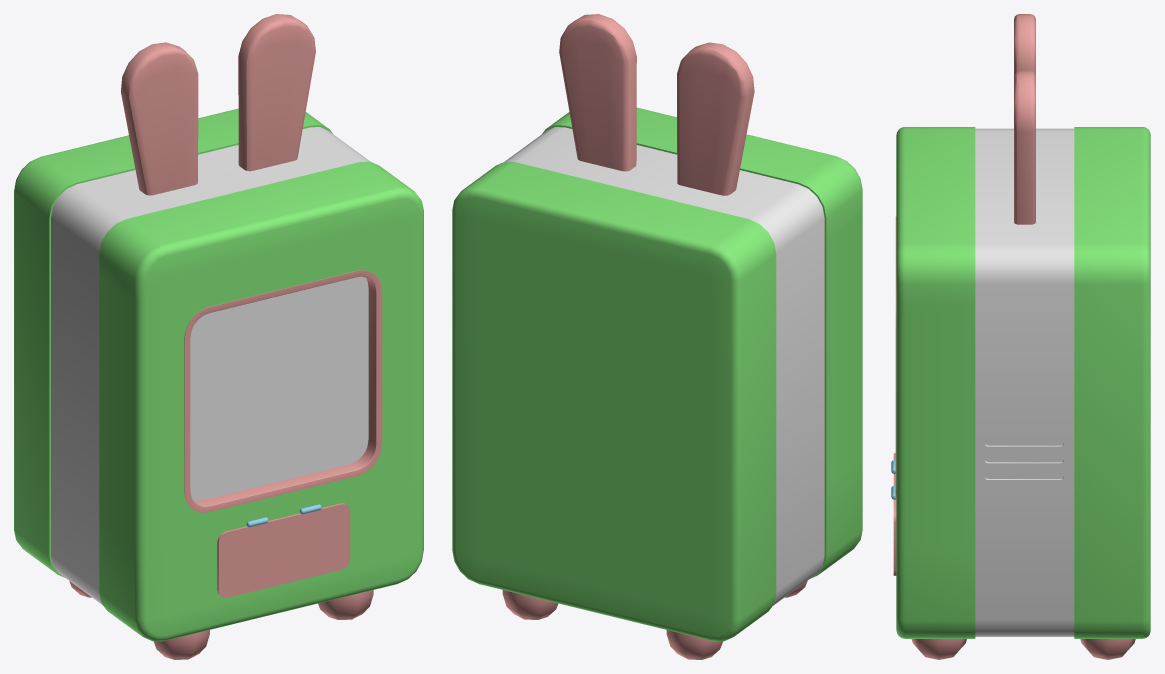
The model's file is vending_machine.glb.
3 views of the same model, side by side, from view 1: azimuth 30°, elevation 25°; view 2: azimuth 150°, elevation 25°; view 3: azimuth 270°, elevation 25° (orthographic).
Parts seen in each view (by area): view 1: Vneding_Machine_Front, Vending_Machine_Screen, Vending_Machine, Vending_Machine_Ears, Vending_Machine_Back, Vending_Machine_Pickup_Port, Vending_Machine_Screen_Frame, Vending_Machine_Feet; view 2: Vending_Machine_Back, Vending_Machine, Vneding_Machine_Front, Vending_Machine_Ears, Vending_Machine_Feet; view 3: Vending_Machine, Vneding_Machine_Front, Vending_Machine_Back, Vending_Machine_Ears, Vending_Machine_Feet, Vending_Machine_Screen_Frame.
Boxes of the visible parts, bbox=[...] form: Vneding_Machine_Front: bbox=[99, 161, 423, 641]; Vending_Machine_Screen: bbox=[190, 276, 368, 500]; Vending_Machine: bbox=[51, 127, 370, 604]; Vending_Machine_Ears: bbox=[120, 14, 315, 195]; Vending_Machine_Back: bbox=[14, 108, 332, 577]; Vending_Machine_Pickup_Port: bbox=[217, 503, 350, 597]; Vending_Machine_Screen_Frame: bbox=[184, 270, 382, 512]; Vending_Machine_Feet: bbox=[69, 581, 373, 659]; Vending_Machine_Back: bbox=[452, 161, 776, 641]; Vending_Machine: bbox=[505, 127, 824, 605]; Vneding_Machine_Front: bbox=[542, 107, 862, 578]; Vending_Machine_Ears: bbox=[559, 14, 754, 195]; Vending_Machine_Feet: bbox=[502, 581, 807, 659]; Vending_Machine: bbox=[975, 128, 1074, 636]; Vneding_Machine_Front: bbox=[896, 127, 975, 638]; Vending_Machine_Back: bbox=[1074, 127, 1150, 638]; Vending_Machine_Ears: bbox=[1014, 14, 1035, 224]; Vending_Machine_Feet: bbox=[911, 639, 1135, 659]; Vending_Machine_Screen_Frame: bbox=[895, 217, 896, 496].
Size of the model in its own units: 4.81 by 9.15 by 3.77.
